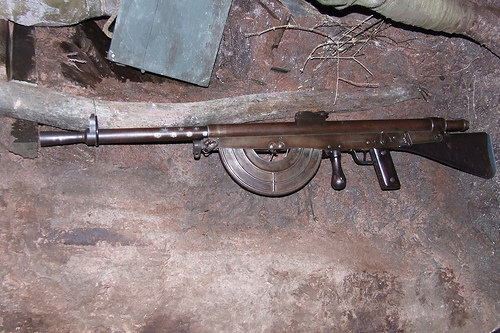rifle: (35, 91, 496, 214)
